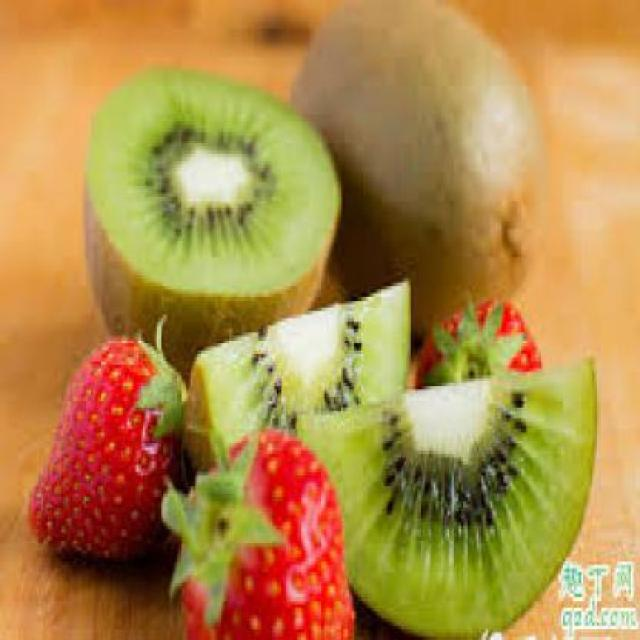BIODEGRADABLE: (291, 355, 592, 636), (284, 0, 547, 315), (79, 68, 338, 362), (27, 333, 216, 569), (160, 432, 352, 637), (170, 275, 408, 433), (413, 298, 545, 404)
